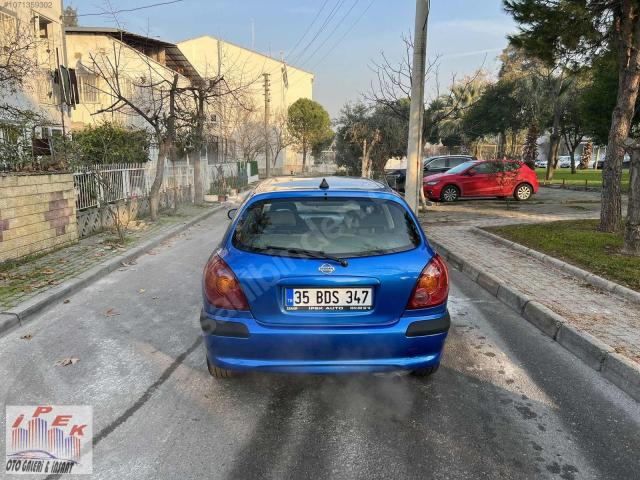plaka: (286, 287, 372, 310)
